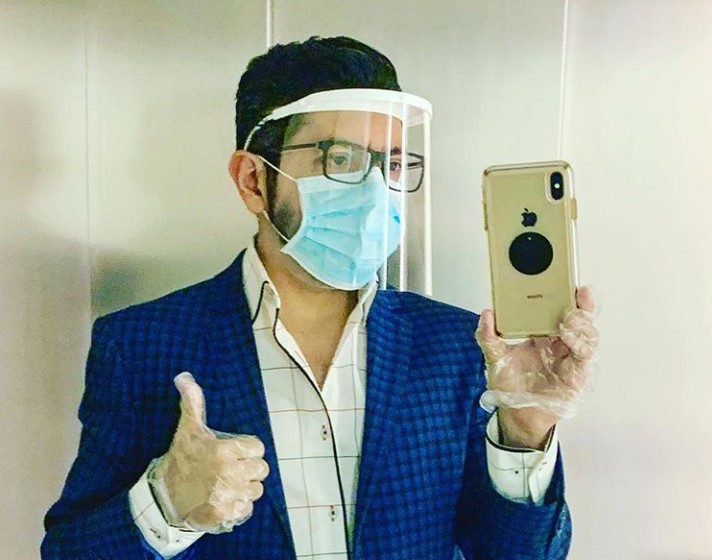face_with_mask: (229, 35, 433, 296)
